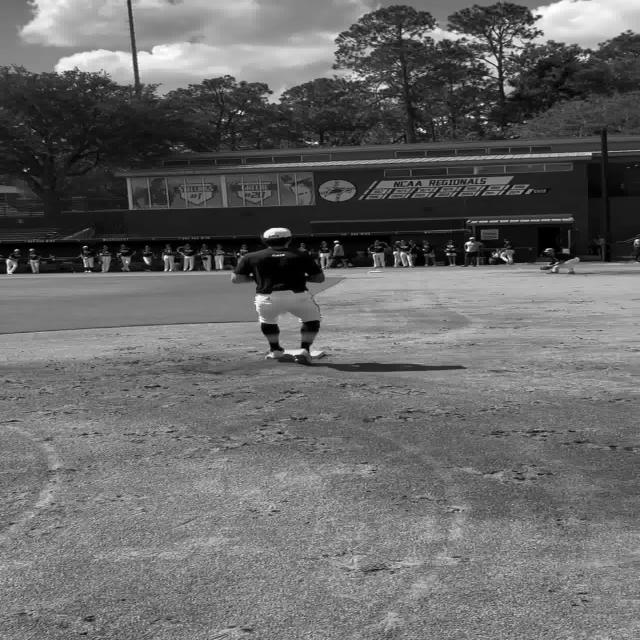base: (311, 349, 327, 359), (284, 350, 300, 356)
shoe: (293, 349, 311, 365), (267, 350, 291, 360)
